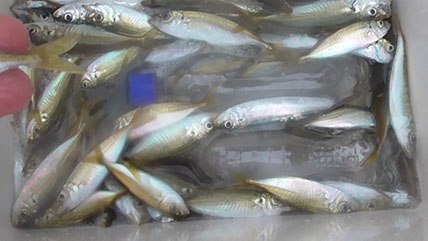kiss: (91, 145, 189, 214), (146, 6, 274, 52), (241, 172, 360, 216), (211, 92, 345, 131)
